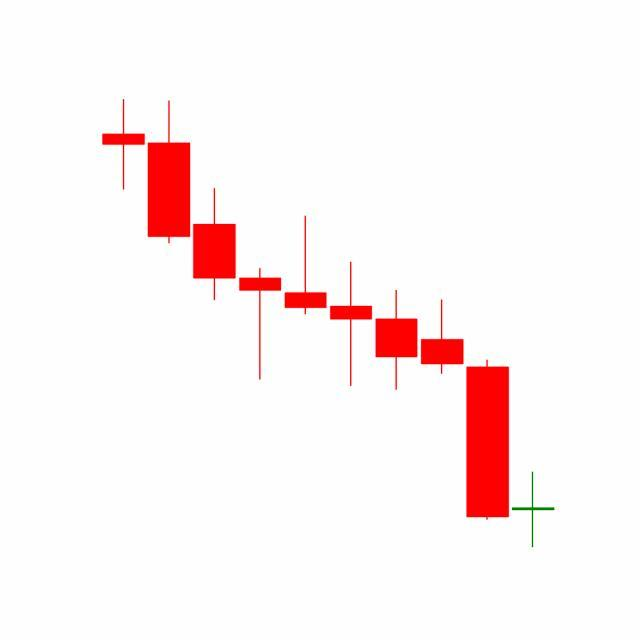Hikkake Pattern: (283, 212, 512, 524)
